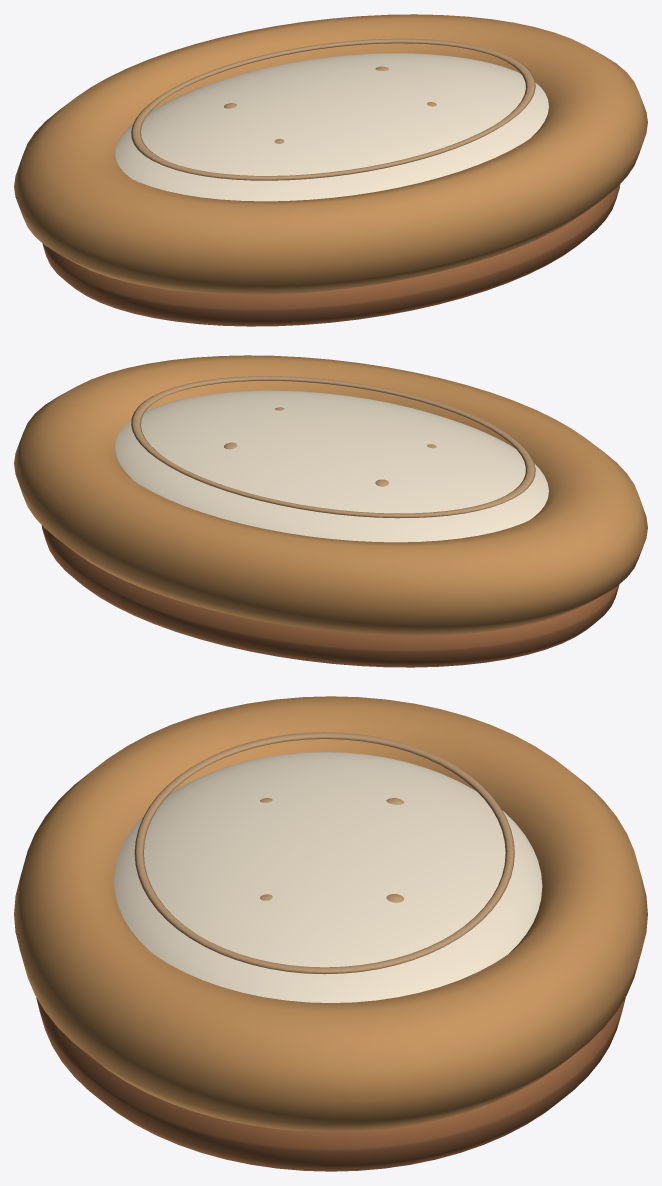
The model's file is dogbed.glb.
3 views of the same model, one above another, from view 1: azimuth 30°, elevation 25°; view 2: azimuth 150°, elevation 25°; view 3: azimuth 270°, elevation 25° (orthographic). The views are drawn at different scales.
Parts seen in each view (by area): view 1: Atelier_DogBed_WovenRim, Atelier_DogBed_Cushion, Atelier_DogBed_Base, Atelier_DogBed_Seam; view 2: Atelier_DogBed_WovenRim, Atelier_DogBed_Cushion, Atelier_DogBed_Base, Atelier_DogBed_Seam; view 3: Atelier_DogBed_WovenRim, Atelier_DogBed_Cushion, Atelier_DogBed_Base, Atelier_DogBed_Seam.
Part boxes in pixels (bbox=[...]): Atelier_DogBed_WovenRim: bbox=[14, 14, 647, 294]; Atelier_DogBed_Cushion: bbox=[115, 53, 548, 201]; Atelier_DogBed_Base: bbox=[42, 184, 620, 326]; Atelier_DogBed_Seam: bbox=[131, 38, 535, 180]; Atelier_DogBed_WovenRim: bbox=[14, 355, 647, 635]; Atelier_DogBed_Cushion: bbox=[115, 390, 548, 542]; Atelier_DogBed_Base: bbox=[41, 525, 619, 667]; Atelier_DogBed_Seam: bbox=[131, 376, 535, 518]; Atelier_DogBed_WovenRim: bbox=[14, 696, 647, 1132]; Atelier_DogBed_Cushion: bbox=[114, 752, 542, 1002]; Atelier_DogBed_Base: bbox=[36, 997, 625, 1171]; Atelier_DogBed_Seam: bbox=[134, 732, 514, 974].
Bounding box in the file's own units: 1.4 × 0.2975 × 1.01.
